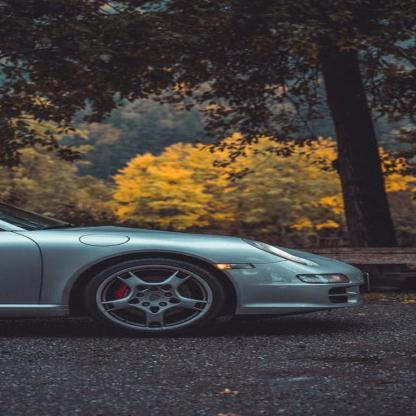Tire: (82, 256, 230, 336)
